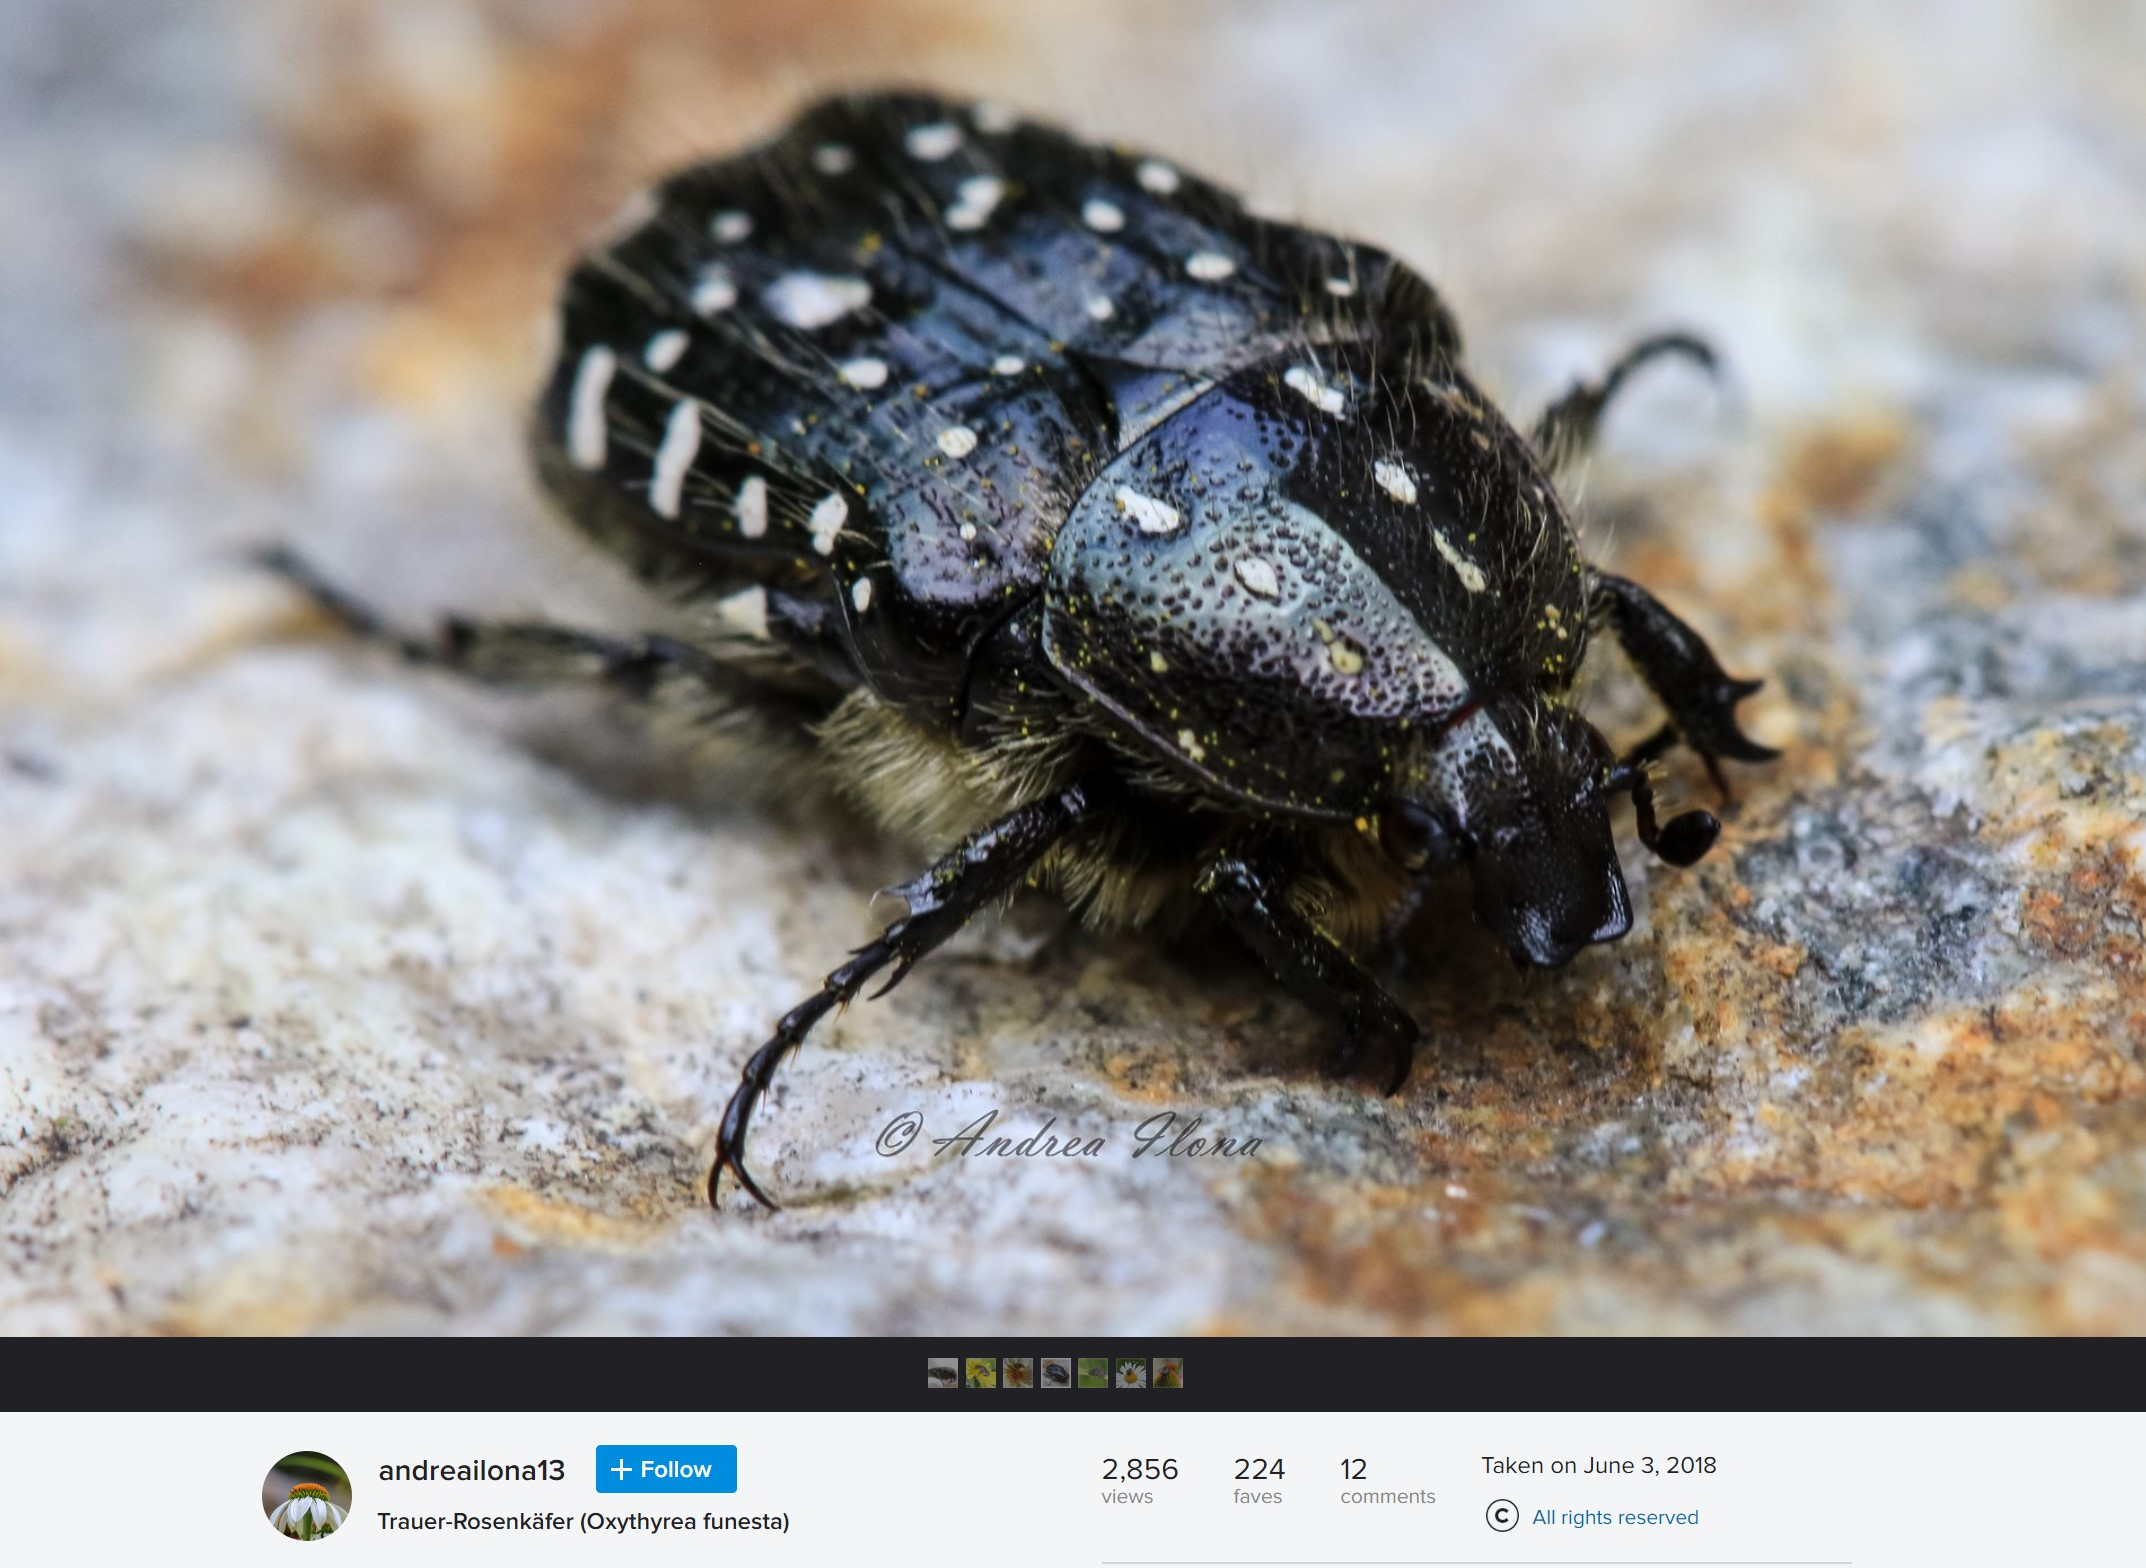Oxythyrea_funesta: (200, 43, 1828, 1228)
